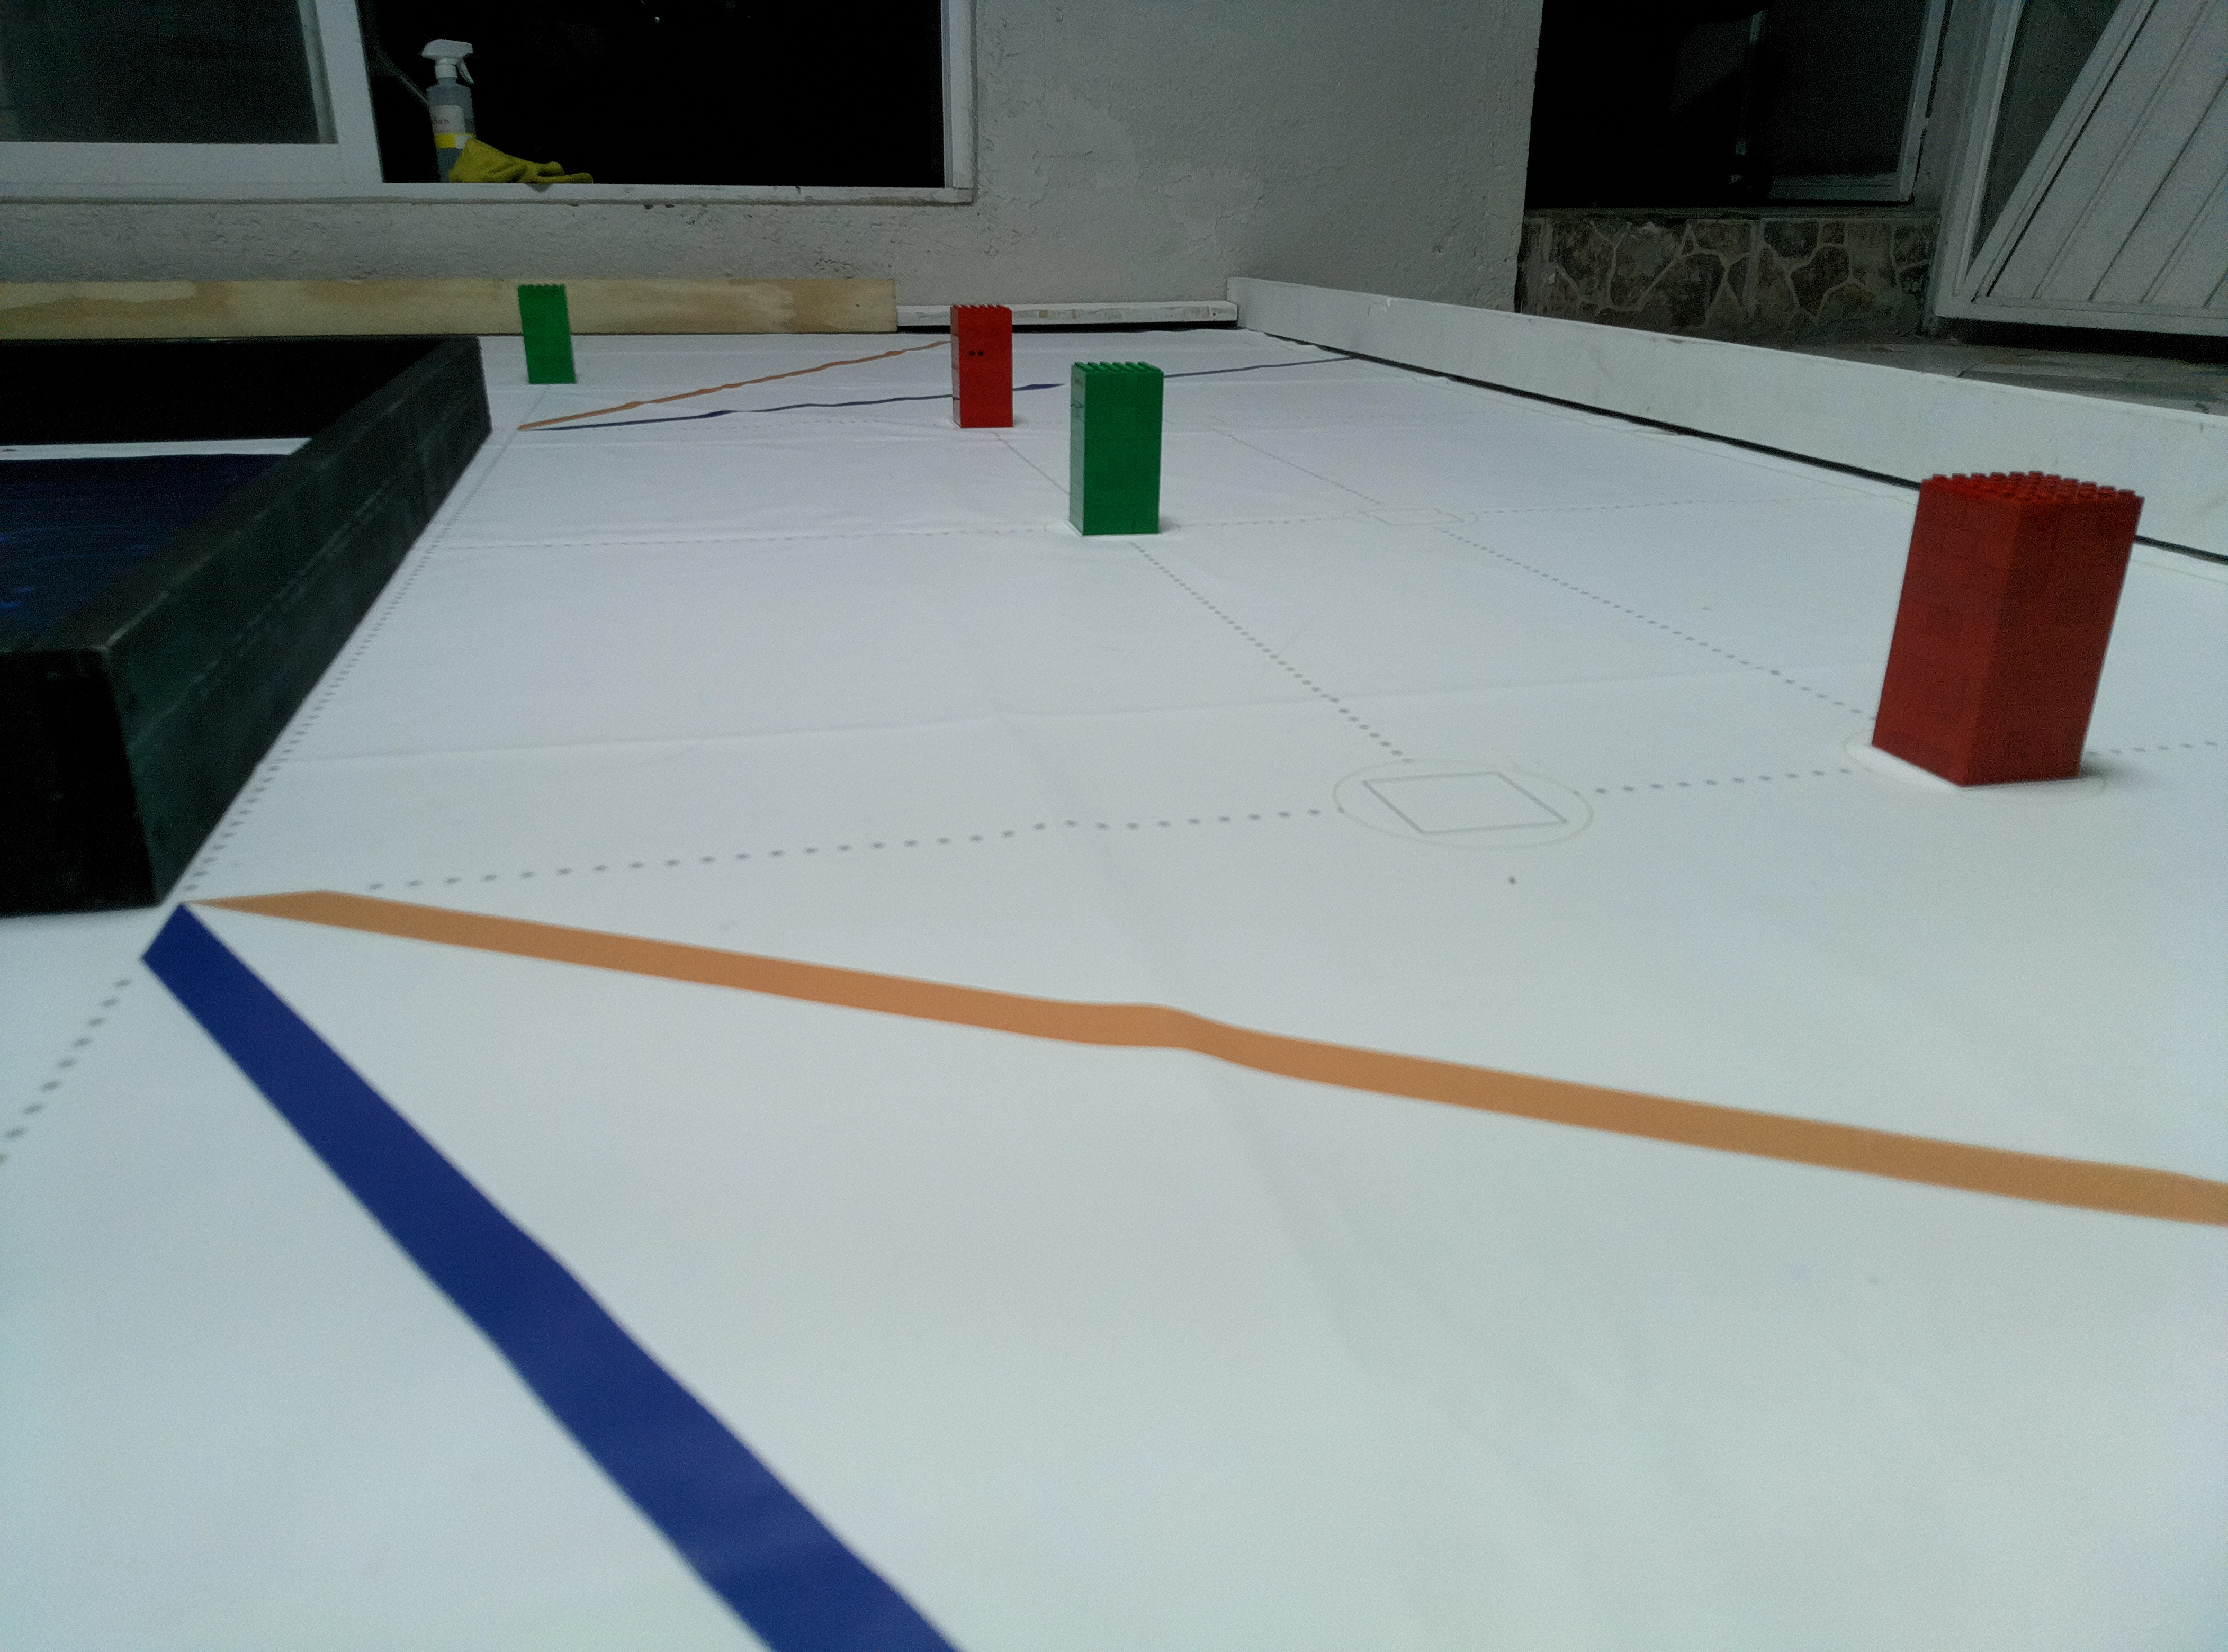greenbox: (1065, 361, 1166, 536), (517, 283, 576, 389)
redbox: (1867, 456, 2145, 791), (947, 300, 1017, 430)
